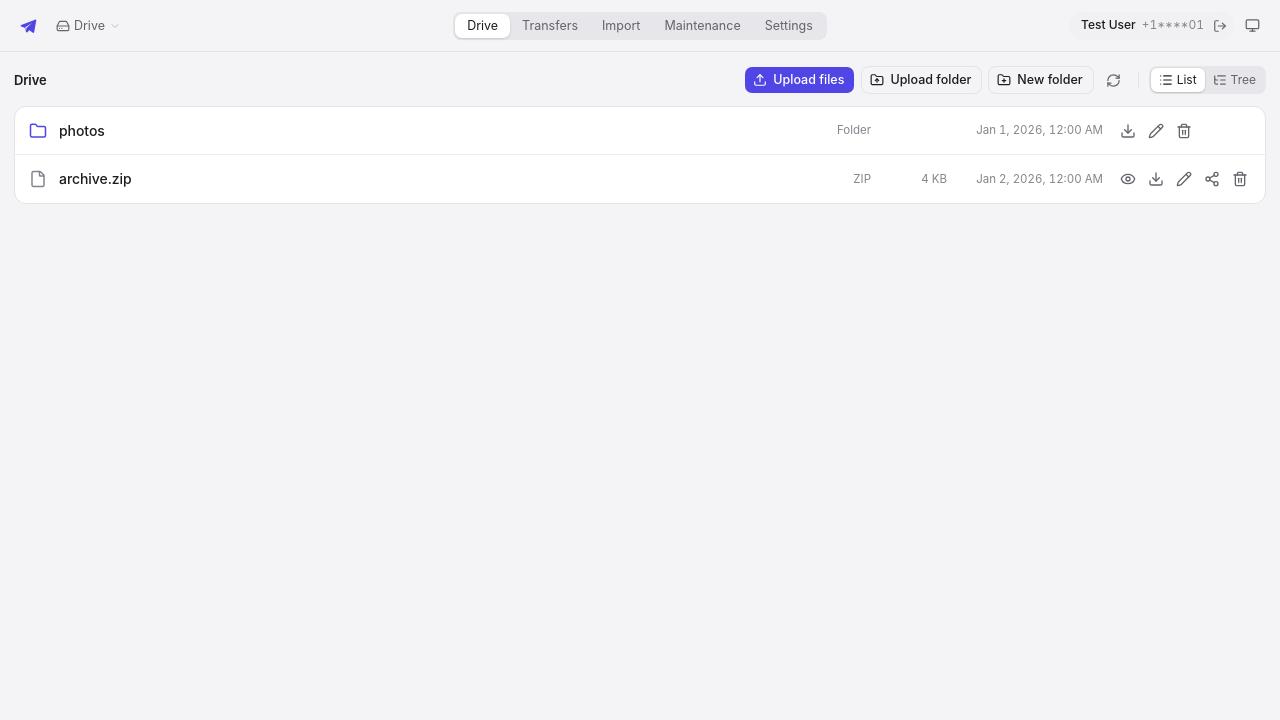
Test: an unsupported file shows the fallback with its details and Download
This screenshot has width=1280, height=720.
Click the button "archive.zip".
click(95, 178)  # box [59, 169, 795, 189]
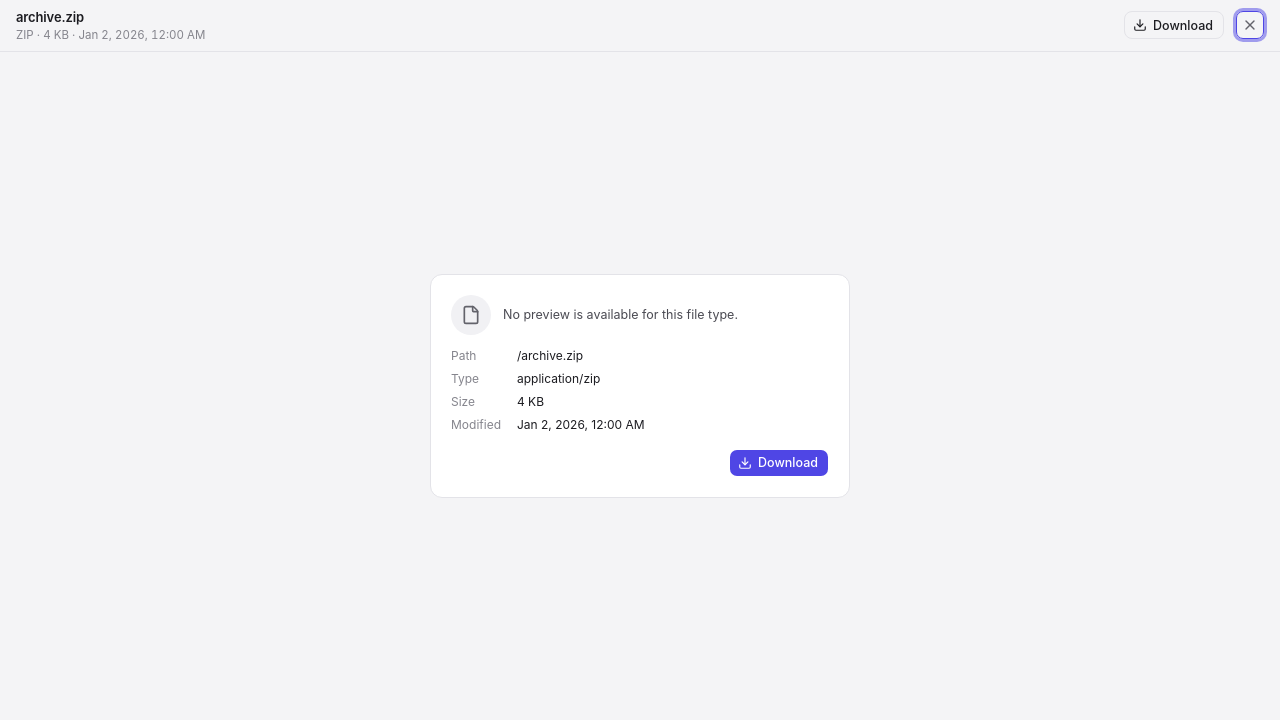
expect the text "No preview is available for this file type." is shown: met, box [503, 306, 738, 324]
expect the dialog "archive.zip" shows "/archive.zip": met, box [517, 348, 583, 363]
expect the dialog "archive.zip" shows "4 KB": met, box [517, 394, 544, 409]
